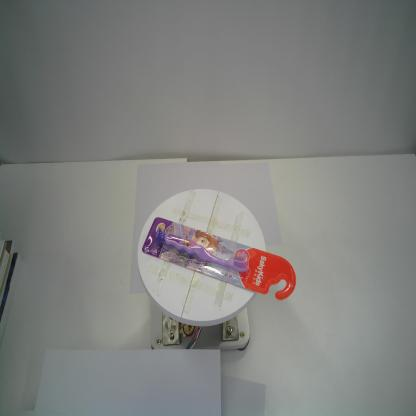Personal Hygiene: (142, 216, 296, 301)
